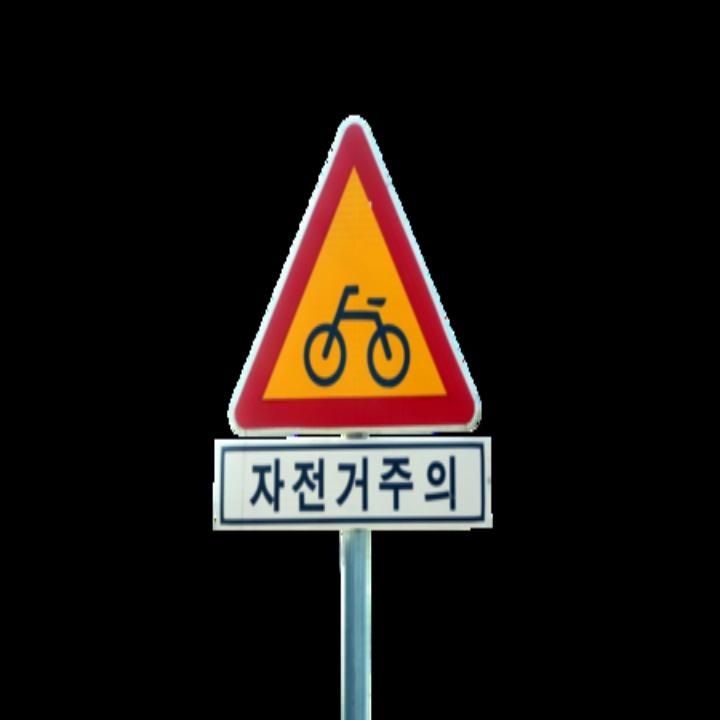bicycle: (301, 281, 413, 389)
